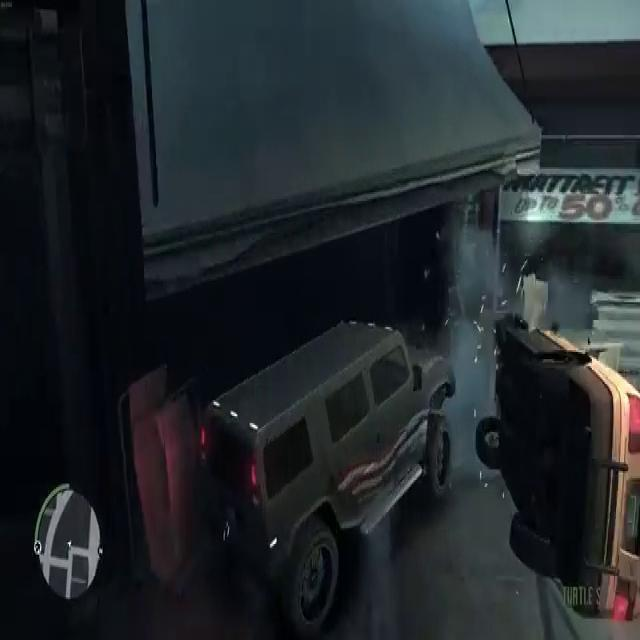accident: (475, 296, 640, 629)
